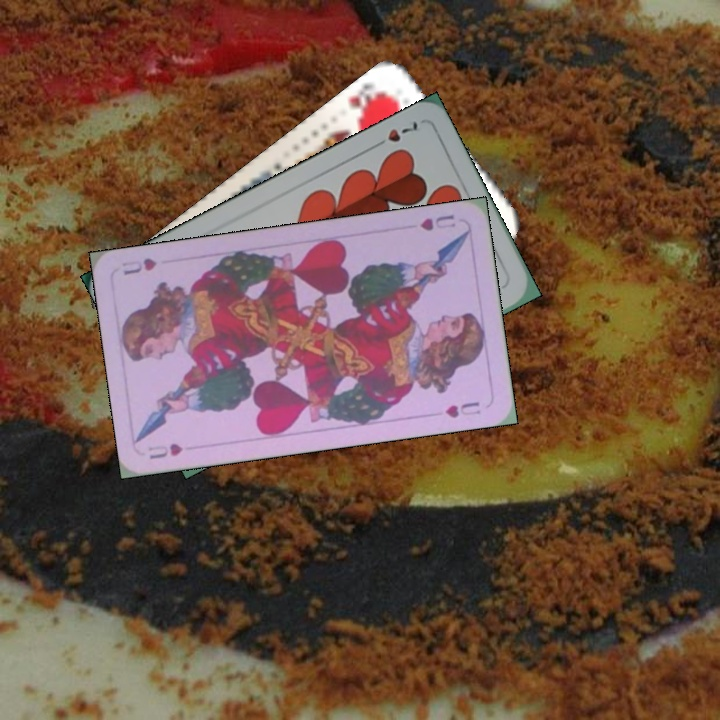H7: (368, 116, 423, 151)
HK: (343, 79, 391, 122)
HU: (416, 210, 458, 234), (144, 439, 186, 462)
